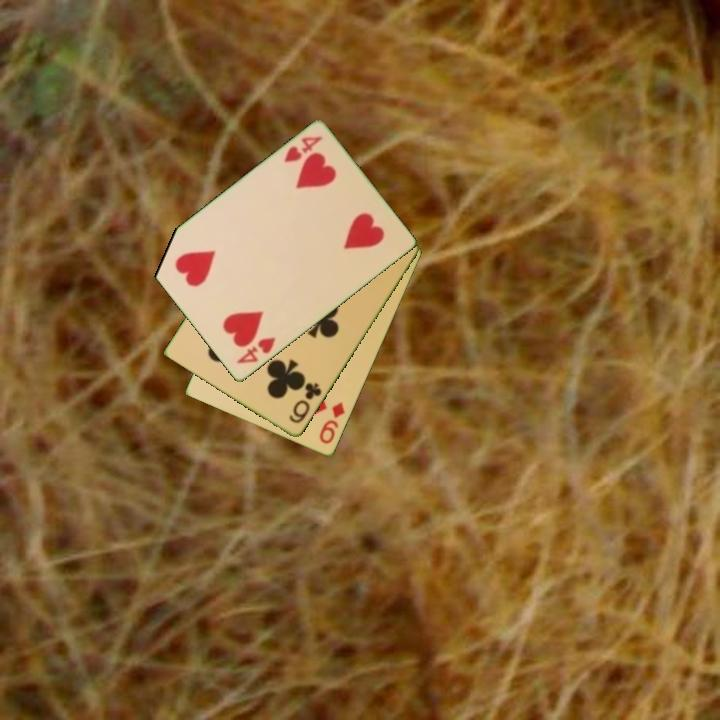4h: (233, 334, 279, 367), (280, 133, 325, 166)
6c: (285, 379, 325, 427)
9d: (316, 399, 348, 447)
